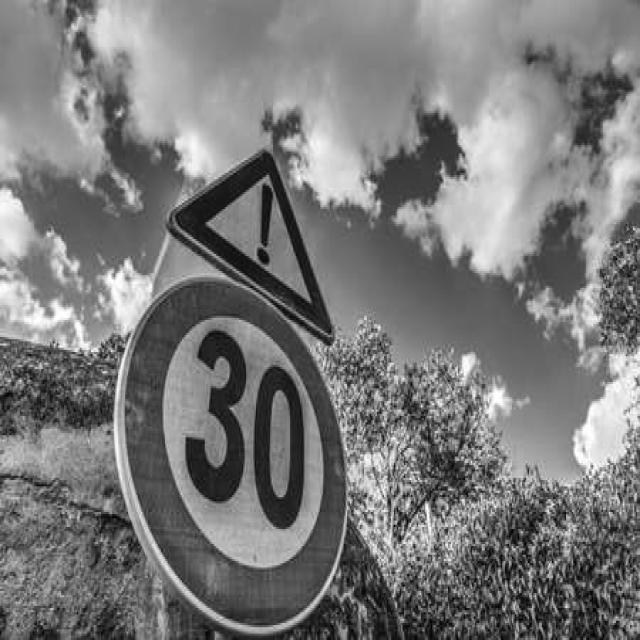danger: (165, 146, 338, 344)
speed_30: (109, 275, 351, 635)
